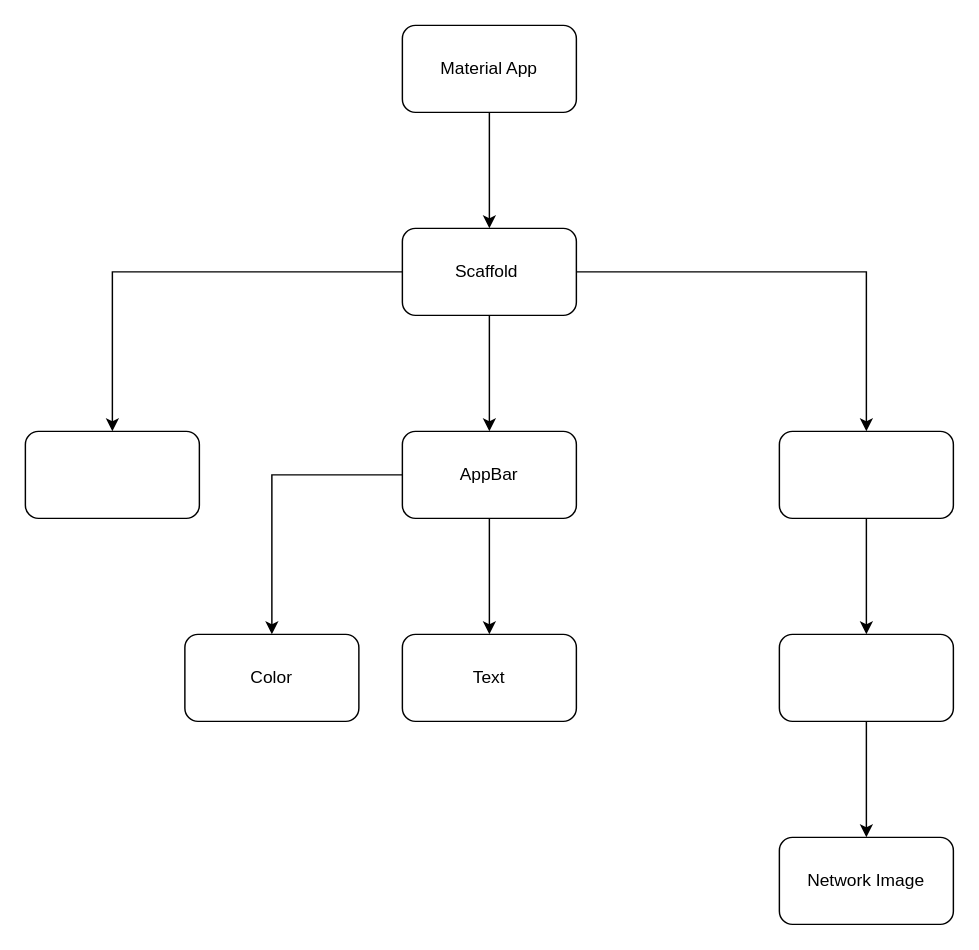
Some shapes in this 979 by 950 pixel diagram are drawn without their labels. Here are the shapes that lost their labels. From the top down, the centre of each, then its label:
At point 111,474: "Color Widget".
At point 865,474: "Center".
At point 865,677: "Image".
